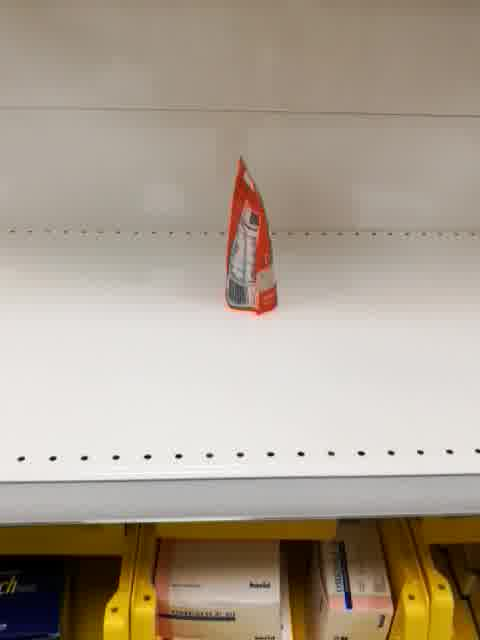whitechia: (222, 152, 282, 318)
